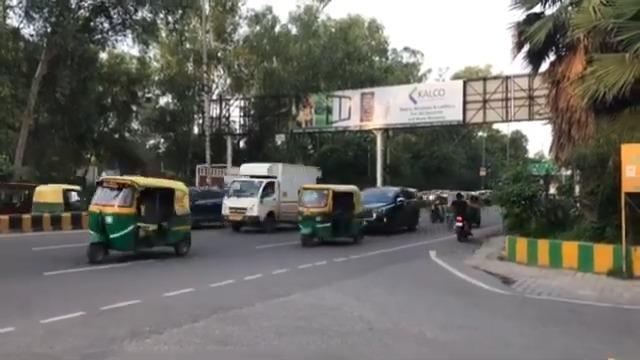Auto: (86, 173, 192, 263), (295, 183, 370, 246), (31, 183, 82, 214)
Truck: (221, 161, 322, 232)
